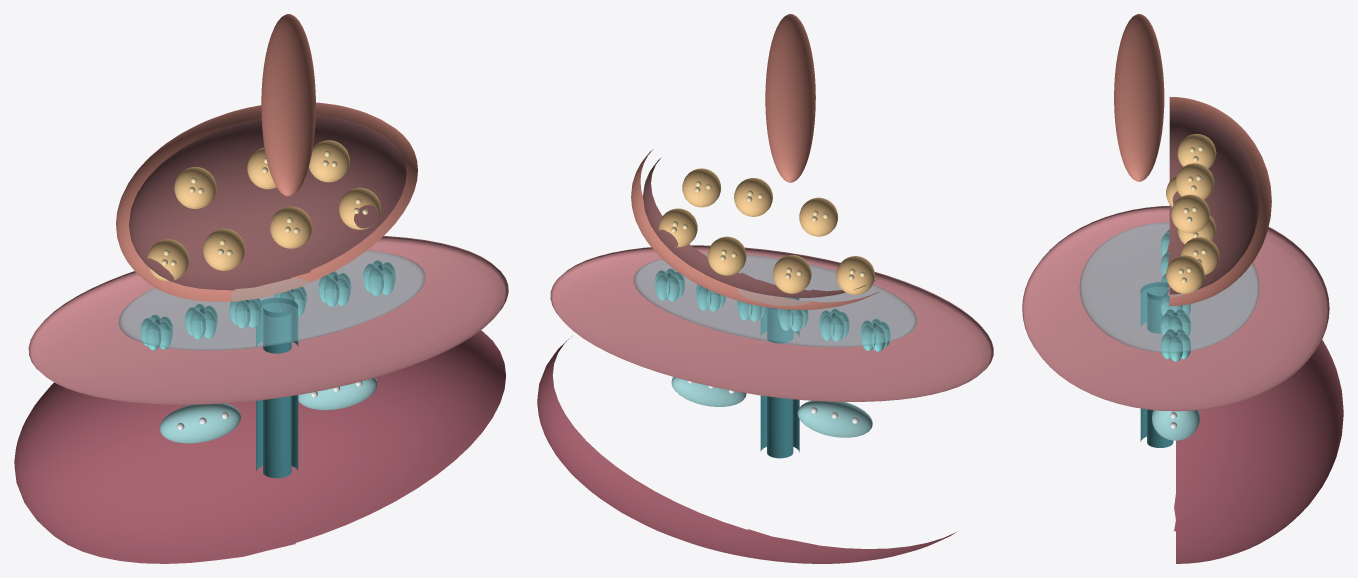
Rendered from neuromuscular_junction.glb.
3 renders of one model, left to right at view 1: azimuth 30°, elevation 25°; view 2: azimuth 150°, elevation 25°; view 3: azimuth 270°, elevation 25°, orthographic. The views are drawn at different scales.
Visible parts, largest first — view 1: MuscleFiber, Sarcolemma, TerminalInterior, SynapticCleft, Terminal, Axon, TTubule, SR_Cisterna_L, SR_Cisterna_R, Vesicle_03, Vesicle_05, Vesicle_02 (+9 smaller); view 2: Sarcolemma, SynapticCleft, MuscleFiber, Axon, Terminal, TTubule, TerminalInterior, SR_Cisterna_L, SR_Cisterna_R, Vesicle_03, Vesicle_05, Vesicle_02 (+8 smaller); view 3: Sarcolemma, MuscleFiber, SynapticCleft, TerminalInterior, Axon, Terminal, TTubule, SR_Cisterna_R, Vesicle_07, Vesicle_04, Vesicle_06, Vesicle_05 (+4 smaller).
Boxes of the visible parts, left/top/right/bottom form: MuscleFiber: left=14, top=330, right=505, bottom=563; Sarcolemma: left=28, top=236, right=508, bottom=404; TerminalInterior: left=129, top=115, right=406, bottom=290; SynapticCleft: left=118, top=250, right=425, bottom=350; Terminal: left=116, top=102, right=417, bottom=301; Axon: left=261, top=14, right=315, bottom=196; TTubule: left=256, top=297, right=298, bottom=478; SR_Cisterna_L: left=159, top=403, right=240, bottom=443; SR_Cisterna_R: left=298, top=377, right=377, bottom=410; Vesicle_03: left=270, top=206, right=312, bottom=248; Vesicle_05: left=174, top=167, right=216, bottom=208; Vesicle_02: left=203, top=228, right=245, bottom=270; Sarcolemma: left=550, top=245, right=993, bottom=401; SynapticCleft: left=633, top=253, right=917, bottom=347; MuscleFiber: left=537, top=336, right=957, bottom=563; Axon: left=765, top=14, right=815, bottom=182; Terminal: left=631, top=149, right=879, bottom=309; TTubule: left=760, top=297, right=799, bottom=458; TerminalInterior: left=643, top=157, right=876, bottom=297; SR_Cisterna_L: left=797, top=400, right=872, bottom=437; SR_Cisterna_R: left=671, top=377, right=746, bottom=406; Vesicle_03: left=707, top=236, right=746, bottom=275; Vesicle_05: left=799, top=197, right=838, bottom=236; Vesicle_02: left=772, top=255, right=811, bottom=293; Sarcolemma: left=1022, top=206, right=1329, bottom=411; MuscleFiber: left=1174, top=339, right=1343, bottom=563; SynapticCleft: left=1079, top=222, right=1259, bottom=352; TerminalInterior: left=1167, top=108, right=1259, bottom=294; Axon: left=1114, top=14, right=1164, bottom=181; Terminal: left=1167, top=97, right=1271, bottom=306; TTubule: left=1140, top=282, right=1179, bottom=447; SR_Cisterna_R: left=1152, top=410, right=1199, bottom=440; Vesicle_07: left=1171, top=194, right=1209, bottom=233; Vesicle_04: left=1166, top=255, right=1204, bottom=293; Vesicle_06: left=1175, top=163, right=1214, bottom=199; Vesicle_05: left=1177, top=134, right=1216, bottom=168.
Size of the model in its own units: 9.6 by 10.63 by 6.13.
